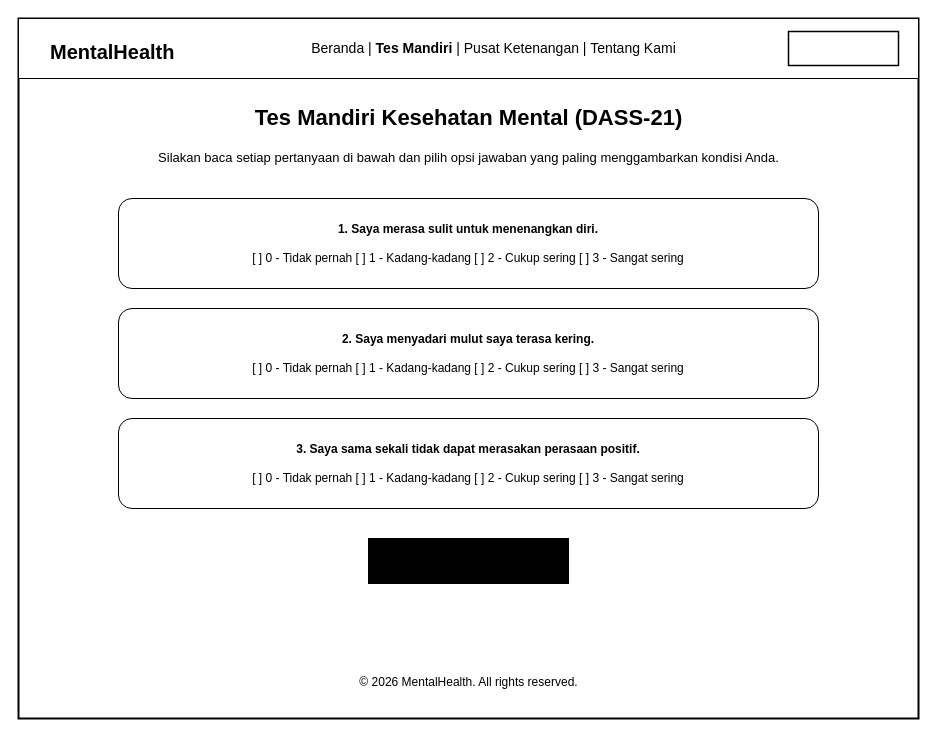
This 936x736 diagram has some shape labels left out. Here are the shapes that lost their labels. From the top down, the centre of each, then its label:
At [843,48]: "Login Admin".
At [468,561]: "Kirim Hasil Tes".
